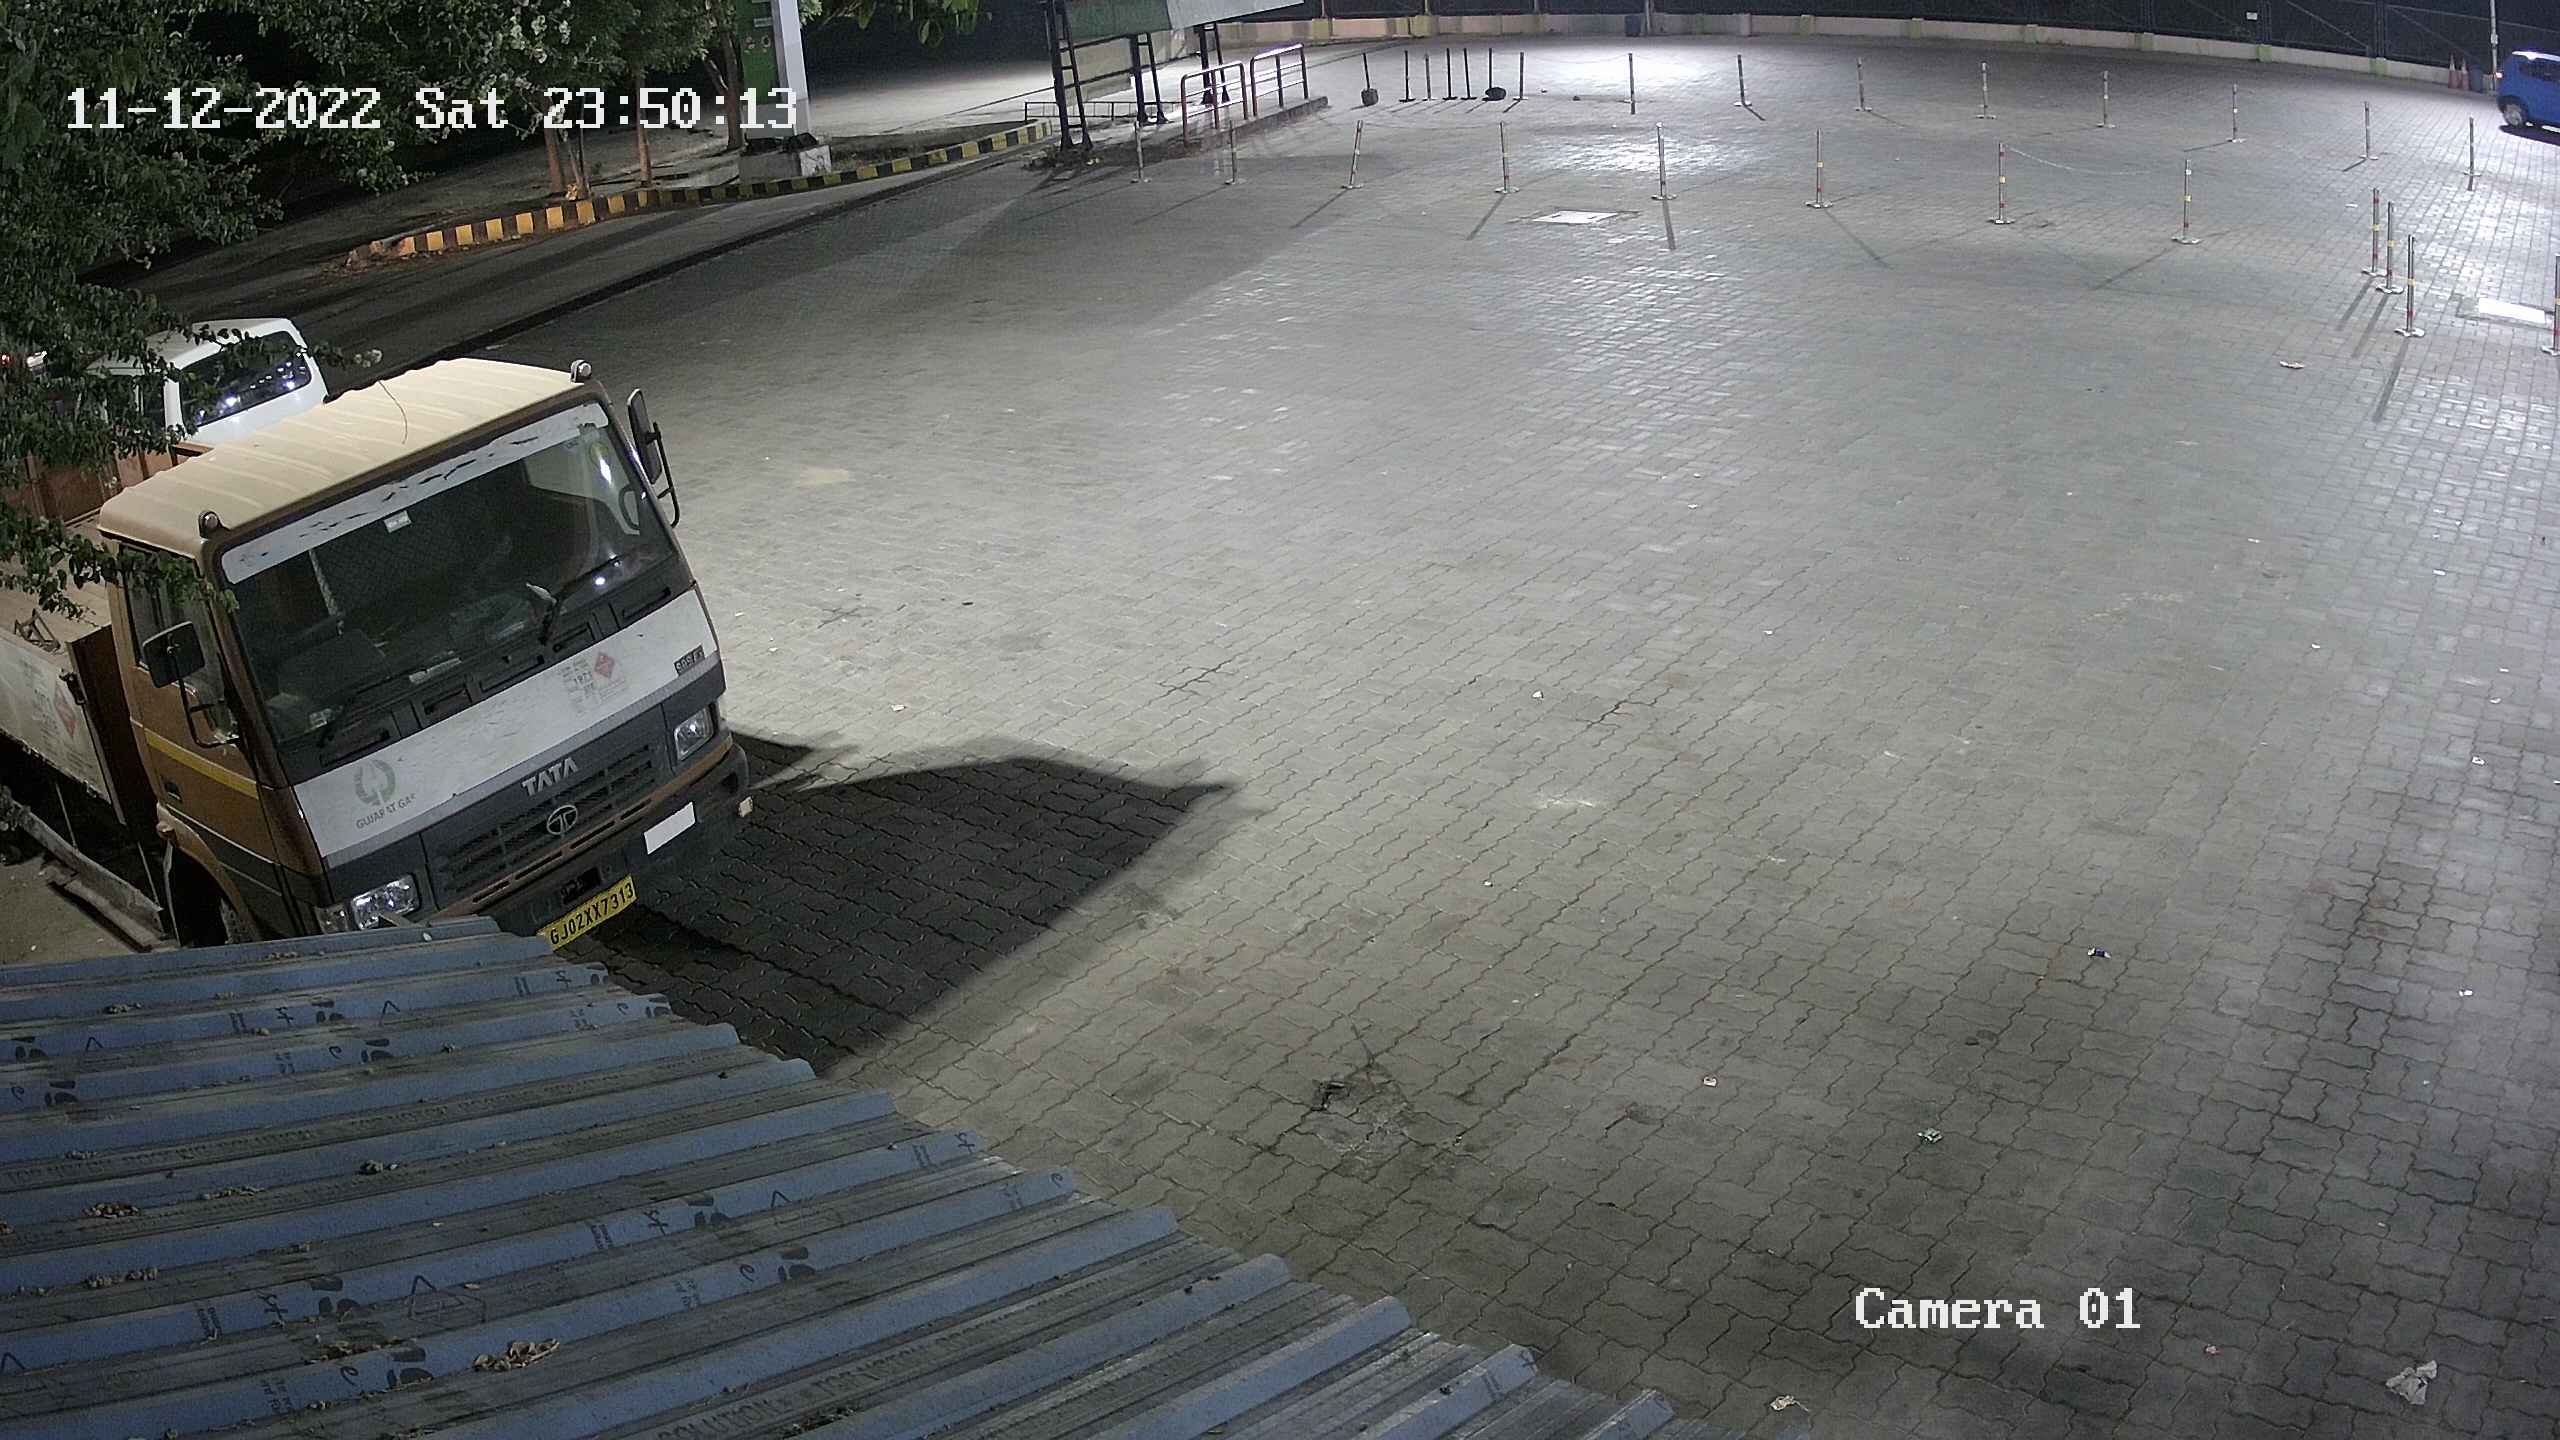Car: (56, 302, 359, 455), (2477, 26, 2558, 146)
HMV: (2, 350, 774, 962)
